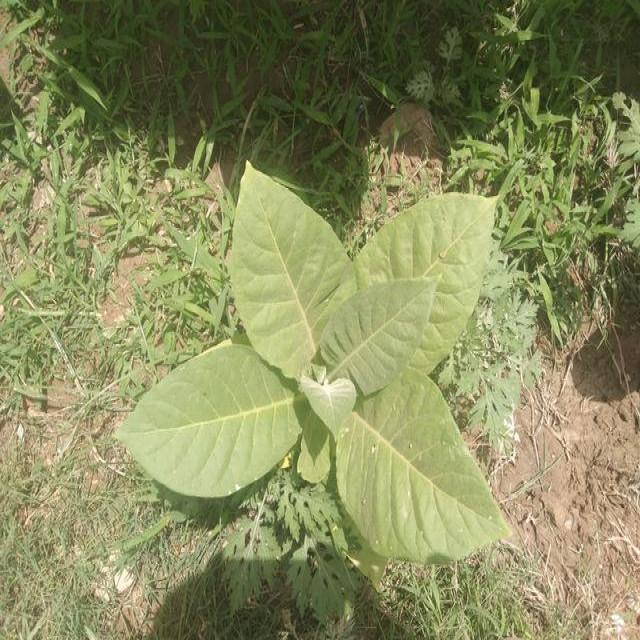crop: (122, 158, 514, 562)
